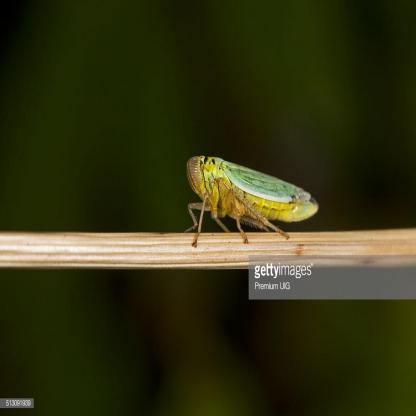Green-Leafhopper: (180, 149, 321, 246)
